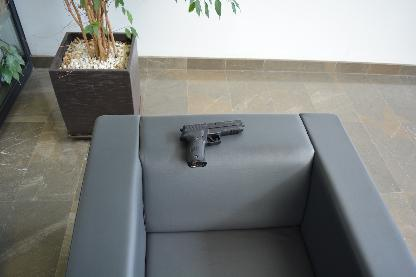pistol: (178, 118, 244, 166)
